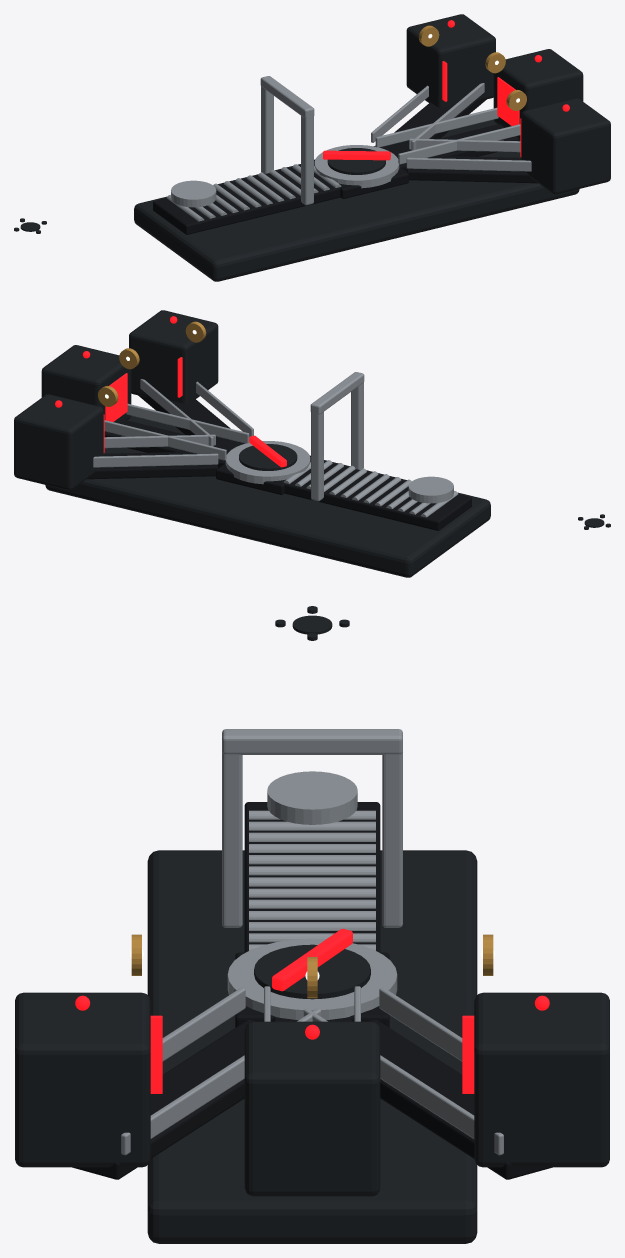
The model's file is parts-gopher-order-router.glb.
The picture shows the model from 3 angles, top to bottom: view 1: azimuth 30°, elevation 25°; view 2: azimuth 150°, elevation 25°; view 3: azimuth 270°, elevation 25°; orthographic projection. The views are drawn at different scales.
Visible parts, largest first — view 1: Machine chassis, member_bay_1, member_bay_3, Input belt, member_bay_2, member_lane_1, Routing table, lane_1_rail_-1, lane_2_rail_1, lane_2_rail_-1, scanner_post_-1, member_lane_3 (+11 smaller); view 2: Machine chassis, member_bay_3, member_bay_1, Input belt, member_bay_2, member_lane_3, Routing table, lane_3_rail_1, lane_2_rail_-1, member_lane_1, lane_2_rail_1, scanner_post_1 (+11 smaller); view 3: Machine chassis, member_bay_2, member_bay_1, member_bay_3, Input belt, member_lane_1, member_lane_3, Routing table, scanner_bridge, Animated product flange, scanner_post_-1, scanner_post_1 (+20 smaller).
Part boxes in pixels (box(x1,y1,x2,y2)): Machine chassis: box(134, 119, 579, 281); member_bay_1: box(521, 98, 610, 194); member_bay_3: box(406, 14, 495, 107); Input belt: box(153, 165, 347, 234); member_bay_2: box(493, 49, 583, 140); member_lane_1: box(407, 156, 537, 183); Routing table: box(314, 145, 399, 188); lane_1_rail_-1: box(406, 157, 531, 171); lane_2_rail_1: box(375, 107, 498, 147); lane_2_rail_-1: box(398, 124, 520, 164); scanner_post_-1: box(301, 114, 313, 205); member_lane_3: box(380, 99, 486, 150); Machine chassis: box(45, 415, 490, 577); member_bay_3: box(14, 394, 103, 490); member_bay_1: box(129, 310, 218, 403); Input belt: box(277, 461, 471, 530); member_bay_2: box(41, 345, 131, 436); member_lane_3: box(87, 452, 217, 479); Routing table: box(225, 441, 310, 484); lane_3_rail_1: box(93, 453, 218, 467); lane_2_rail_-1: box(126, 403, 249, 443); member_lane_1: box(138, 395, 244, 448); lane_2_rail_1: box(104, 420, 226, 460); scanner_post_1: box(311, 410, 323, 501); Machine chassis: box(147, 850, 477, 1243); member_bay_2: box(244, 1021, 380, 1196); member_bay_1: box(15, 992, 150, 1167); member_bay_3: box(474, 992, 609, 1167); Input belt: box(244, 802, 380, 952); member_lane_1: box(72, 1019, 256, 1179); member_lane_3: box(368, 1019, 552, 1179); Routing table: box(227, 938, 397, 1019); scanner_bridge: box(222, 729, 402, 754); Animated product flange: box(267, 771, 357, 824); scanner_post_-1: box(222, 752, 242, 927); scanner_post_1: box(382, 752, 402, 927).
Size of the model in its own units: 13.56 by 3.14 by 6.32.
